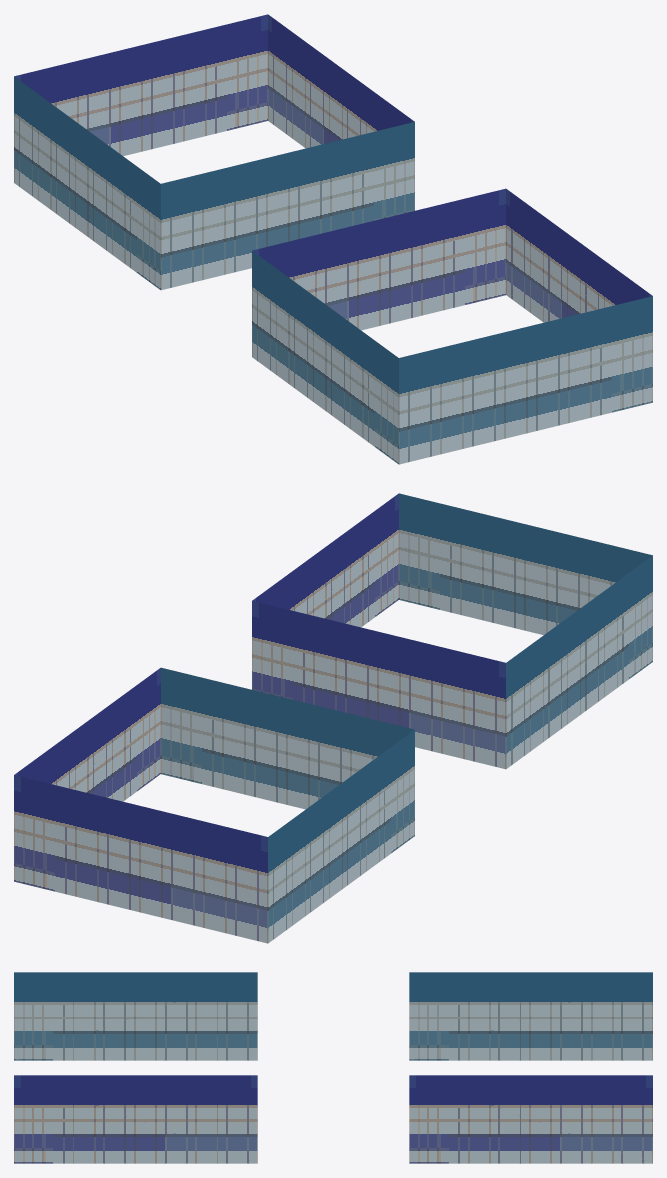
The picture shows the model from 3 angles, top to bottom: view 1: azimuth 30°, elevation 25°; view 2: azimuth 150°, elevation 25°; view 3: azimuth 270°, elevation 25°; orthographic projection. The views are drawn at different scales.
Parts seen in each view (by area): view 1: obj-115; view 2: obj-115; view 3: obj-115.
Boxes of the visible parts, bbox=[...] form: obj-115: bbox=[14, 14, 652, 464]; obj-115: bbox=[14, 493, 652, 943]; obj-115: bbox=[14, 972, 652, 1163].
Bounding box in the file's own units: 1.06 × 0.4258 × 2.79.
1 material, 1 textured.
